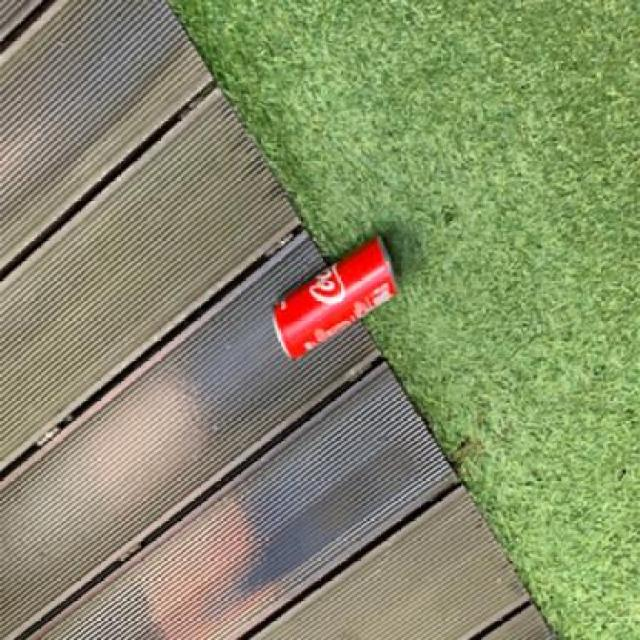Metal: (271, 233, 400, 360)
